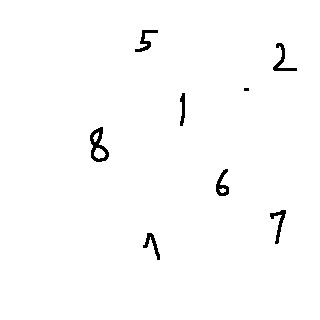.: (241, 83, 251, 95)
1: (138, 230, 172, 266), (178, 88, 190, 131)
2: (264, 38, 306, 77)
5: (131, 24, 165, 58)
6: (207, 164, 236, 204)
7: (260, 206, 293, 250)
8: (81, 124, 118, 172)
